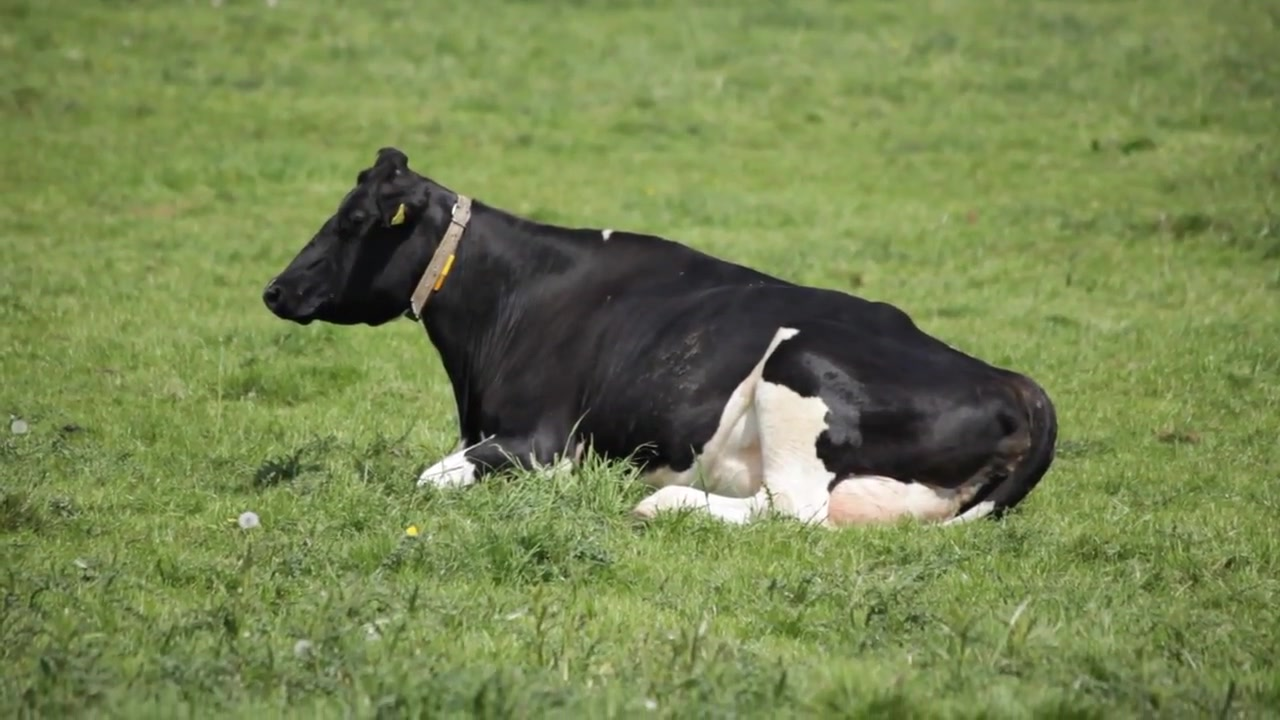cow: (260, 148, 1061, 536)
